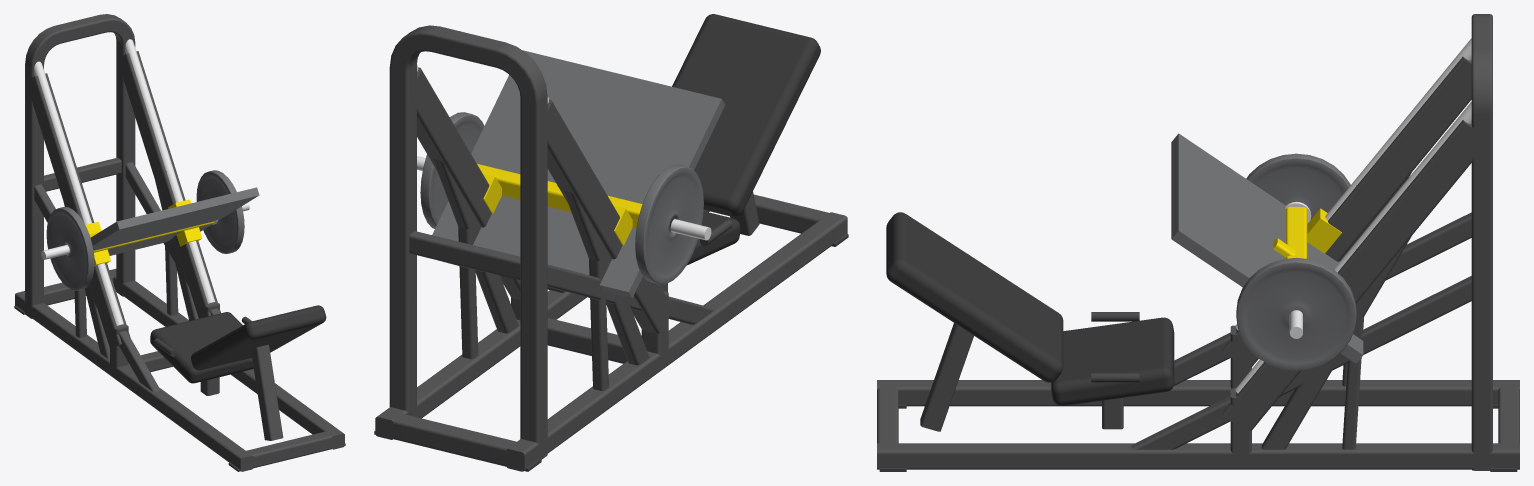
3 renders of one model, left to right at view 1: azimuth 30°, elevation 25°; view 2: azimuth 150°, elevation 25°; view 3: azimuth 270°, elevation 25°, orthographic. The views are drawn at different scales.
Visible parts, largest first — view 1: base, rear_arch_tube, rail_beam (×2), frame, carriage, foot_plate, rail (×2), backrest_pad, seat_pad, backrest, rear_tie, carriage_slider (×2) (+1 smaller); view 2: foot_plate, rear_arch_tube, base, backrest_pad, frame, rail_beam (×2), carriage, rear_tie, carriage_beam, seat_pad, backrest, plate_horn; view 3: base, rail_beam (×2), frame, carriage, backrest_pad, foot_plate, rear_arch_tube, seat_pad, rail (×2), backrest, carriage_beam, carriage_slider (+1 smaller).
Boxes of the visible parts, left/top/right/bottom form: base: left=14, top=268, right=345, bottom=471; rear_arch_tube: left=25, top=14, right=135, bottom=318; rail_beam (×2): left=26, top=51, right=220, bottom=347; frame: left=34, top=162, right=220, bottom=392; carriage: left=46, top=170, right=244, bottom=290; foot_plate: left=90, top=187, right=259, bottom=255; rail (×2): left=34, top=39, right=215, bottom=325; backrest_pad: left=191, top=305, right=326, bottom=370; seat_pad: left=150, top=312, right=253, bottom=383; backrest: left=251, top=344, right=283, bottom=440; rear_tie: left=44, top=157, right=121, bottom=191; carriage_slider (×2): left=85, top=199, right=202, bottom=265; foot_plate: left=432, top=50, right=725, bottom=298; rear_arch_tube: left=389, top=25, right=547, bottom=459; base: left=374, top=194, right=848, bottom=471; backrest_pad: left=672, top=14, right=820, bottom=216; frame: left=433, top=158, right=714, bottom=390; rail_beam (×2): left=409, top=67, right=673, bottom=333; carriage: left=420, top=112, right=703, bottom=284; rear_tie: left=409, top=231, right=520, bottom=280; carriage_beam: left=477, top=164, right=642, bottom=228; seat_pad: left=687, top=211, right=740, bottom=265; backrest: left=730, top=191, right=759, bottom=235; plate_horn: left=670, top=219, right=711, bottom=240; base: left=877, top=380, right=1519, bottom=471; rail_beam (×2): left=1222, top=56, right=1487, bottom=430; frame: left=1131, top=172, right=1471, bottom=454; carriage: left=1236, top=153, right=1356, bottom=370; backrest_pad: left=886, top=212, right=1063, bottom=382; foot_plate: left=1171, top=133, right=1363, bottom=363; rear_arch_tube: left=1471, top=14, right=1492, bottom=470; seat_pad: left=1051, top=317, right=1174, bottom=405; rail (×2): left=1235, top=38, right=1471, bottom=393; backrest: left=920, top=323, right=973, bottom=431; carriage_beam: left=1286, top=207, right=1307, bottom=258; carriage_slider: left=1307, top=208, right=1341, bottom=253.
Bounding box in the file's own units: 1.25 × 1.65 × 2.4.
